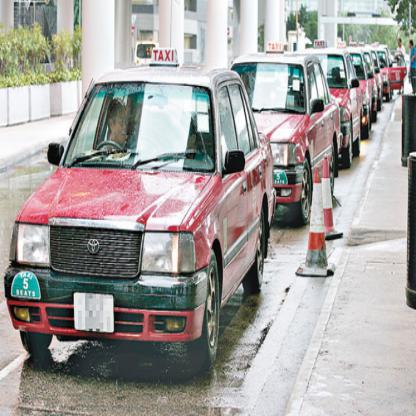taxi: (2, 45, 277, 388)
